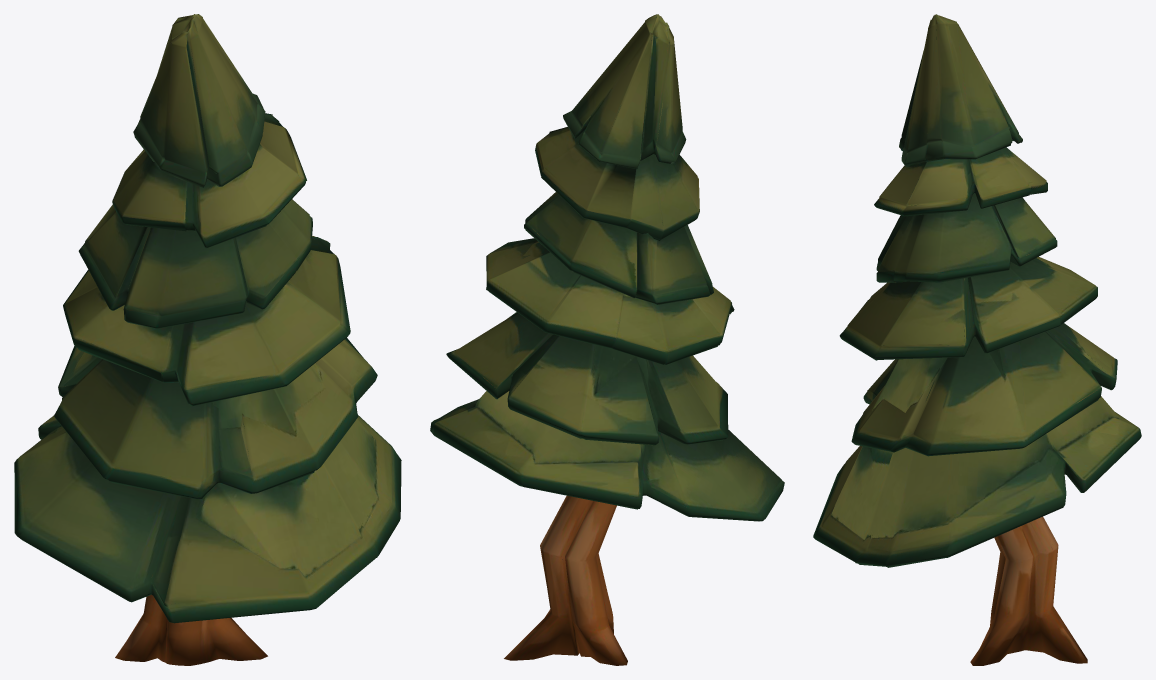
Rendered from cedar_tree.glb.
3 views of the same model, side by side, from view 1: azimuth 30°, elevation 25°; view 2: azimuth 150°, elevation 25°; view 3: azimuth 270°, elevation 25° (orthographic). The views are drawn at different scales.
Visible parts, largest first — view 1: tripo_node_1237e42f-585d-4eb8-8128-ffff97afbca2; view 2: tripo_node_1237e42f-585d-4eb8-8128-ffff97afbca2; view 3: tripo_node_1237e42f-585d-4eb8-8128-ffff97afbca2.
Boxes of the visible parts, x1,y1,x2,y2 form: tripo_node_1237e42f-585d-4eb8-8128-ffff97afbca2: (14, 14, 401, 665); tripo_node_1237e42f-585d-4eb8-8128-ffff97afbca2: (430, 14, 784, 665); tripo_node_1237e42f-585d-4eb8-8128-ffff97afbca2: (813, 14, 1141, 665).
Bounding box in the file's own units: 0.5527 × 0.998 × 0.4863.
Materials: 1 (1 with a texture image).
